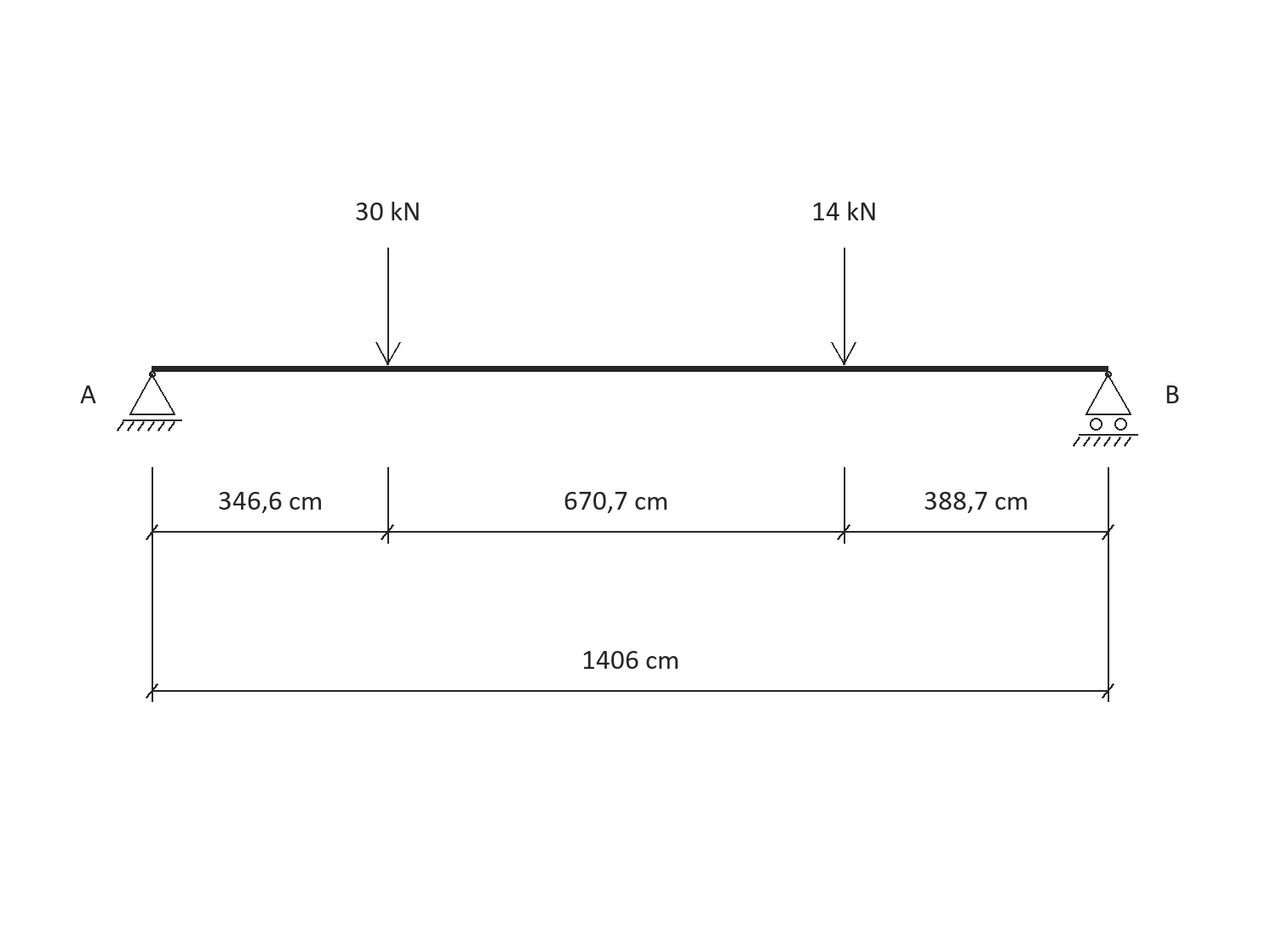pin_support: (117, 371, 182, 431)
point_load: (375, 248, 401, 365), (831, 248, 856, 365)
roller_support: (1073, 371, 1138, 447)
